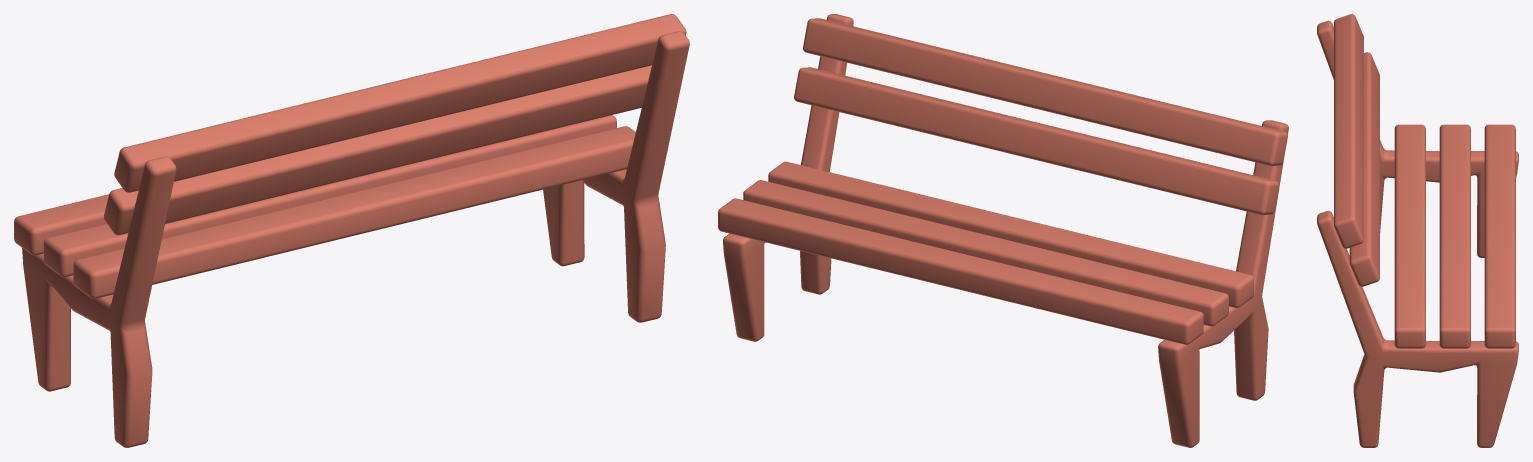
File: bench.glb
3 views of the same model, side by side, from view 1: azimuth 30°, elevation 25°; view 2: azimuth 150°, elevation 25°; view 3: azimuth 270°, elevation 25° (orthographic). The views are drawn at different scales.
Parts seen in each view (by area): view 1: bench; view 2: bench; view 3: bench.
Boxes of the visible parts, left/top/right/bottom form: bench: left=14, top=14, right=689, bottom=447; bench: left=718, top=14, right=1288, bottom=447; bench: left=1317, top=14, right=1518, bottom=447.
Bounding box in the file's own units: 342 × 181 × 142.
